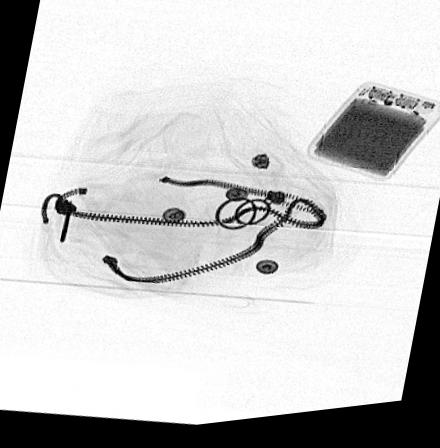Powerbank: (304, 88, 440, 190)
